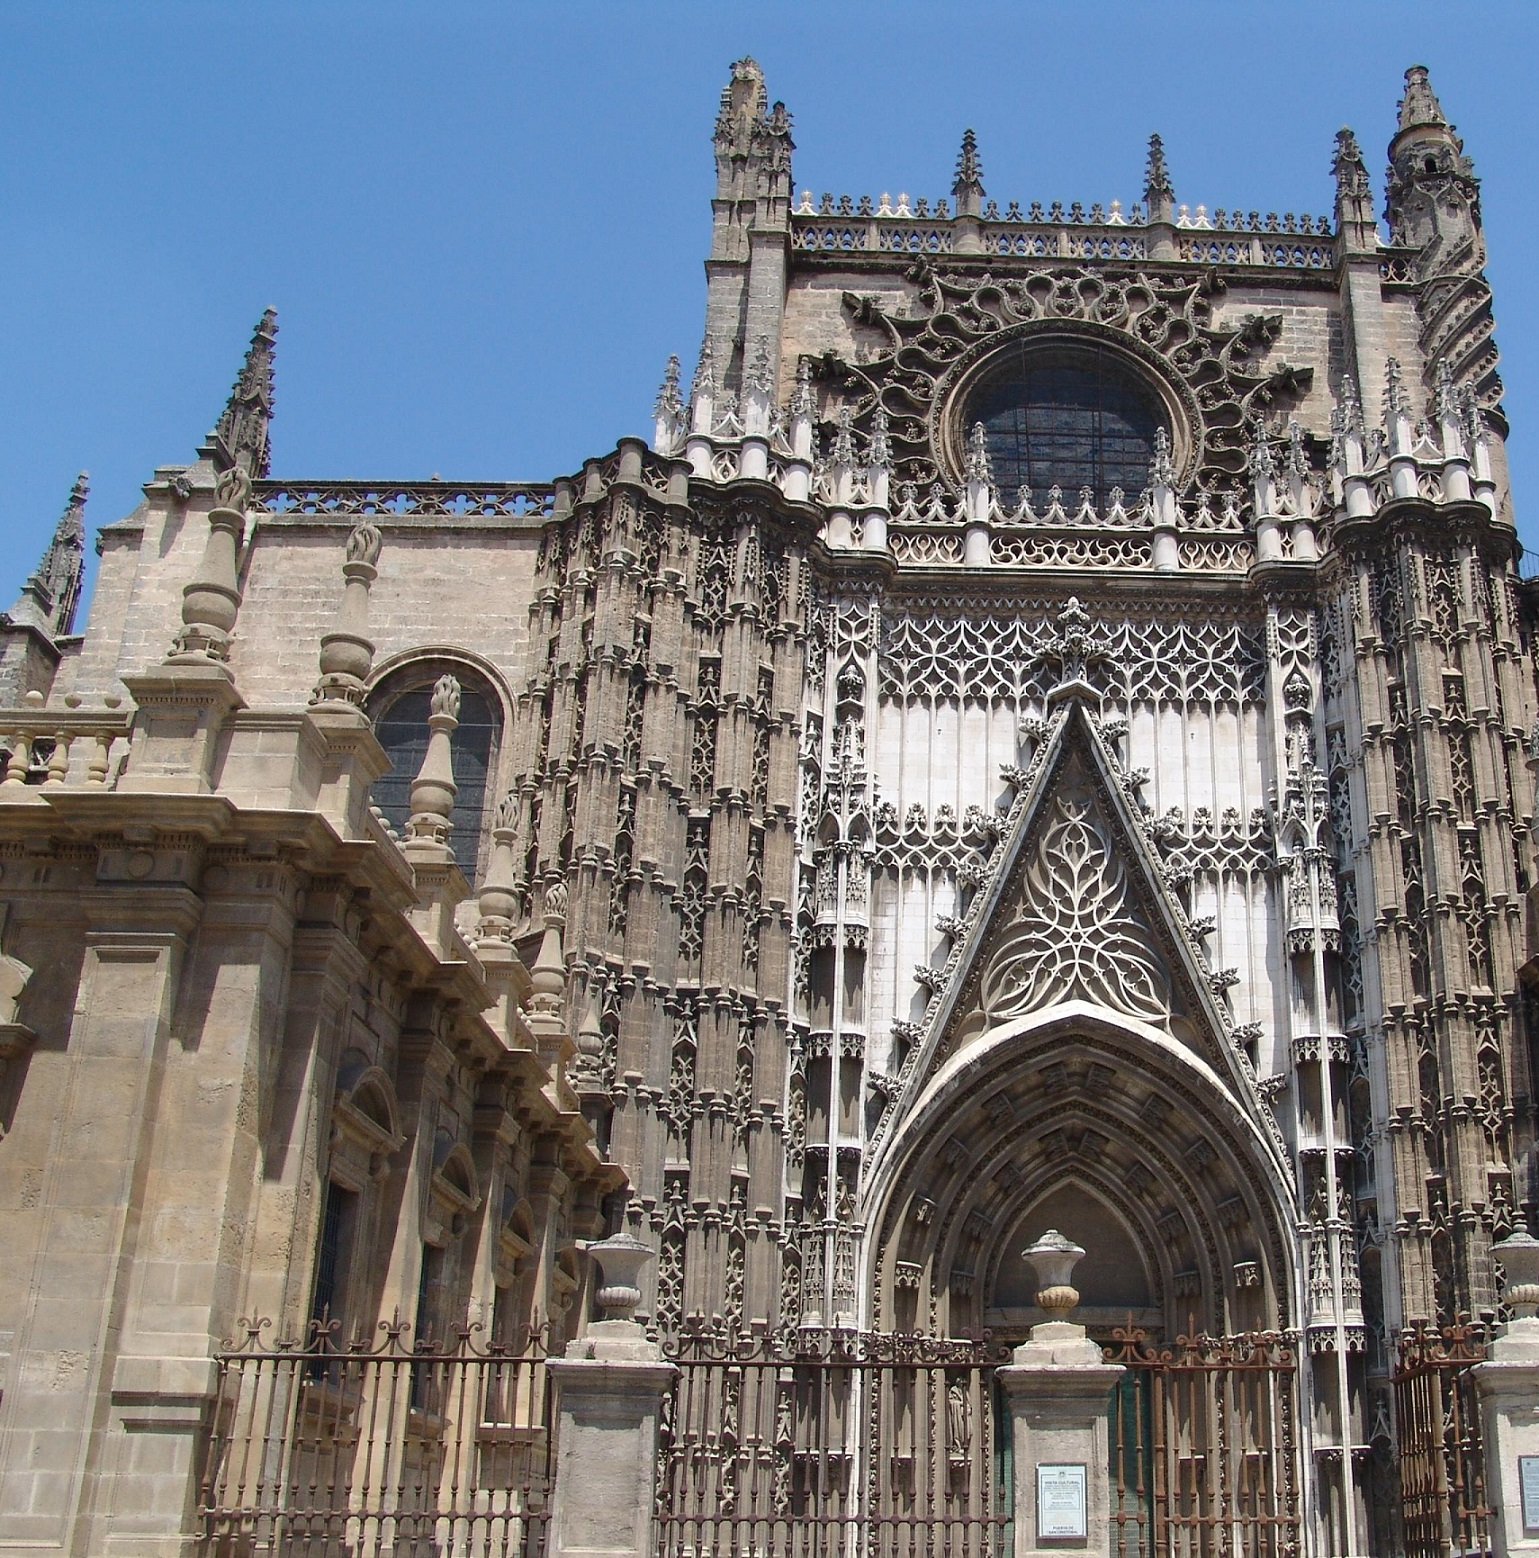arco-apuntado: (872, 1010, 1292, 1330)
arco-medio-punto: (357, 642, 516, 742)
pinaculo-gotico: (194, 276, 299, 475), (3, 467, 101, 634), (1325, 113, 1377, 219), (1132, 125, 1182, 211), (948, 123, 992, 204), (1330, 369, 1368, 448), (958, 417, 996, 493), (1428, 352, 1464, 430), (1143, 422, 1180, 496), (1380, 350, 1415, 427), (860, 403, 896, 477), (741, 329, 777, 402), (651, 350, 686, 422), (689, 327, 722, 402), (826, 402, 860, 472), (1281, 415, 1312, 486), (788, 352, 819, 423), (1246, 410, 1275, 482), (1461, 375, 1490, 446)
